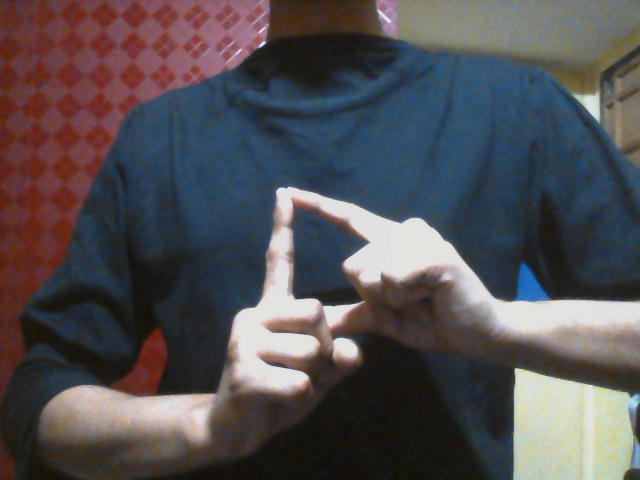D: (214, 184, 505, 466)
